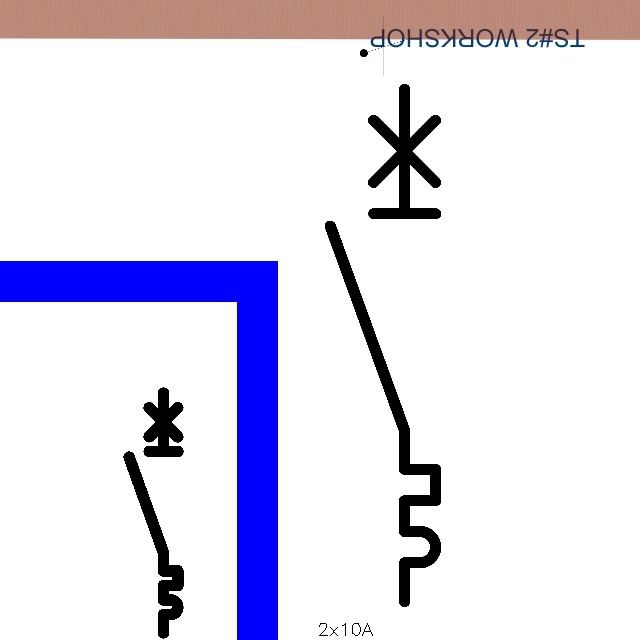interruptor_termomagnetico: (317, 76, 449, 615), (123, 387, 184, 639)
